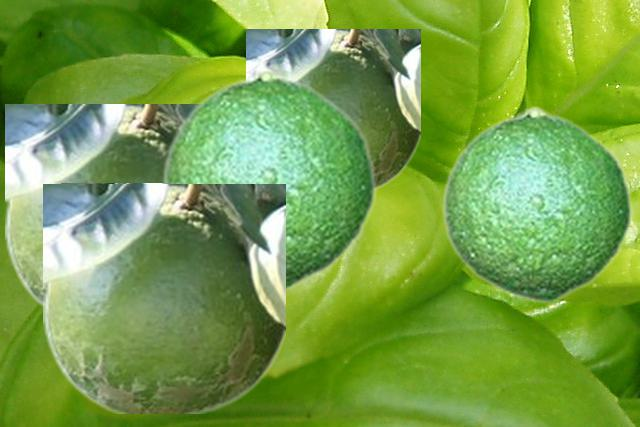dalandan: (43, 184, 284, 412), (160, 67, 376, 291), (5, 104, 193, 309), (440, 105, 632, 303), (246, 29, 419, 190)
